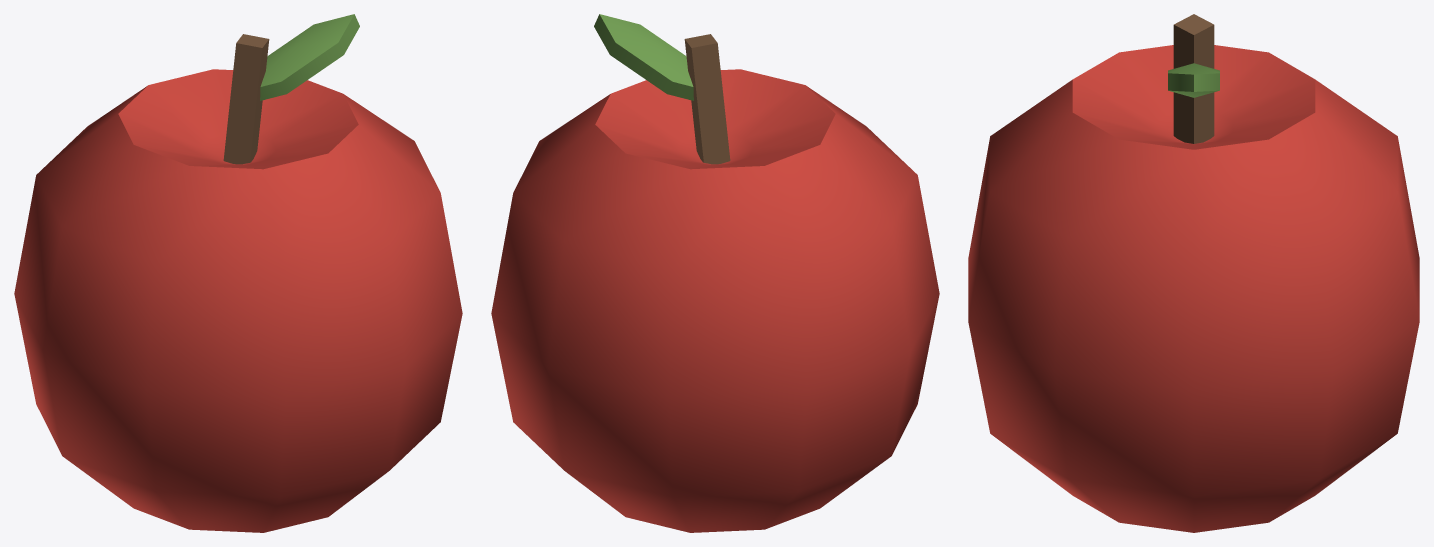
Rendered from apple.glb.
3 views of the same model, side by side, from view 1: azimuth 30°, elevation 25°; view 2: azimuth 150°, elevation 25°; view 3: azimuth 270°, elevation 25° (orthographic). The views are drawn at different scales.
Parts seen in each view (by area): view 1: apple; view 2: apple; view 3: apple.
Part boxes in pixels (box(x1,y1,x2,y2)): apple: box(14, 14, 462, 532); apple: box(491, 14, 939, 532); apple: box(968, 14, 1419, 532).
Bounding box in the file's own units: 0.082 × 0.0884 × 0.078.
